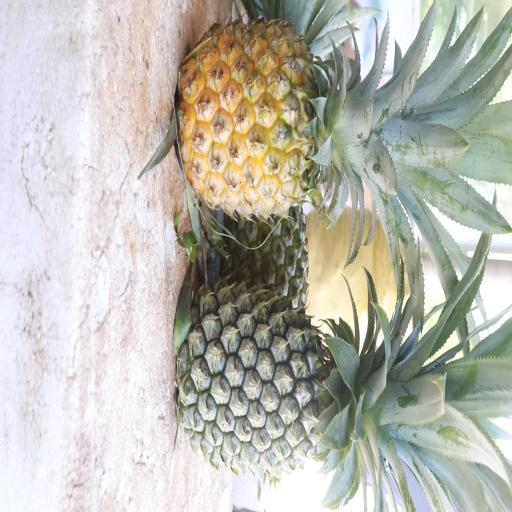Pineapple - v8 v1: (171, 10, 434, 225)
